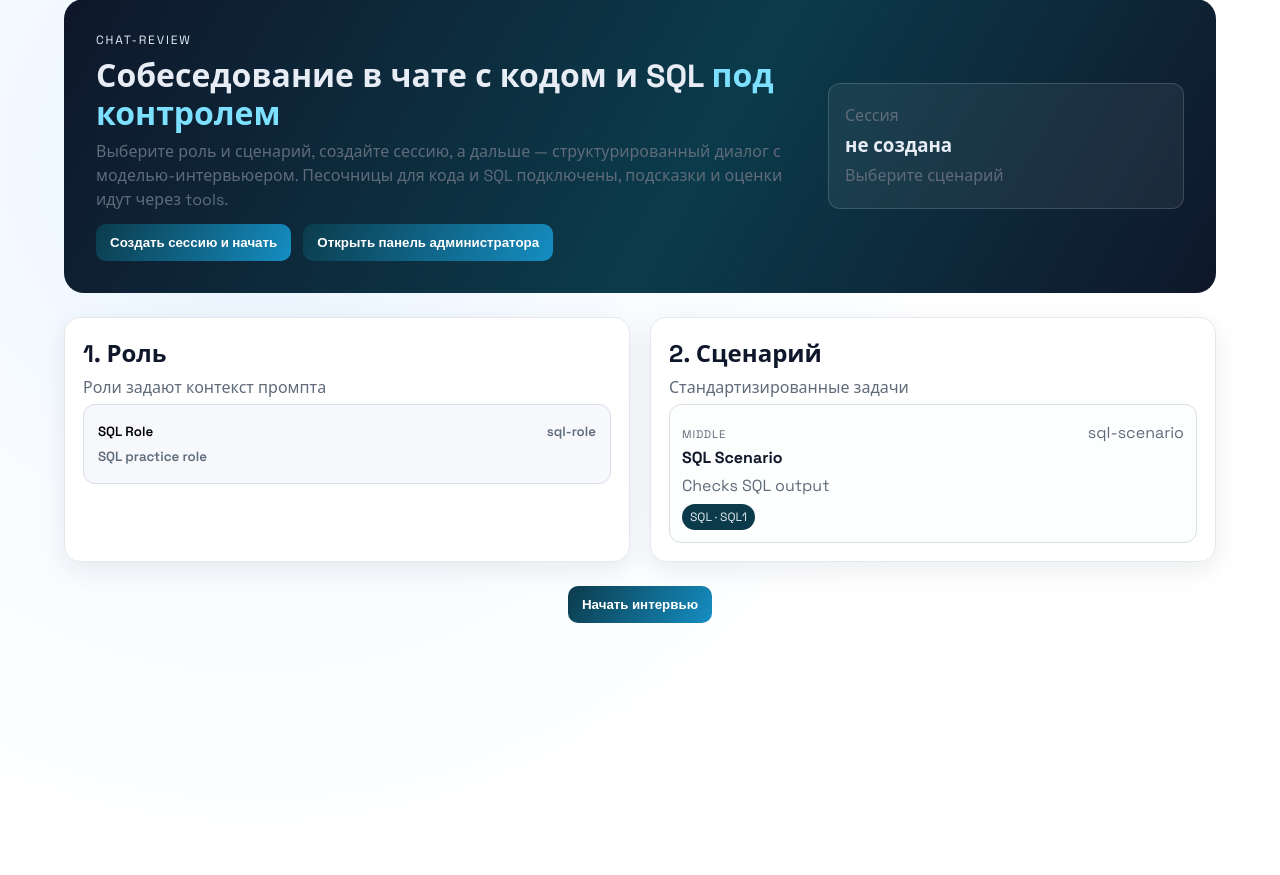
Test: Practice feedback UI › strips duplicated Points and Comment wrappers from sql model reply in the UI
The image size is (1280, 875).
Click the text "SQL Role". click: (126, 431)
box: [98,423,153,440]
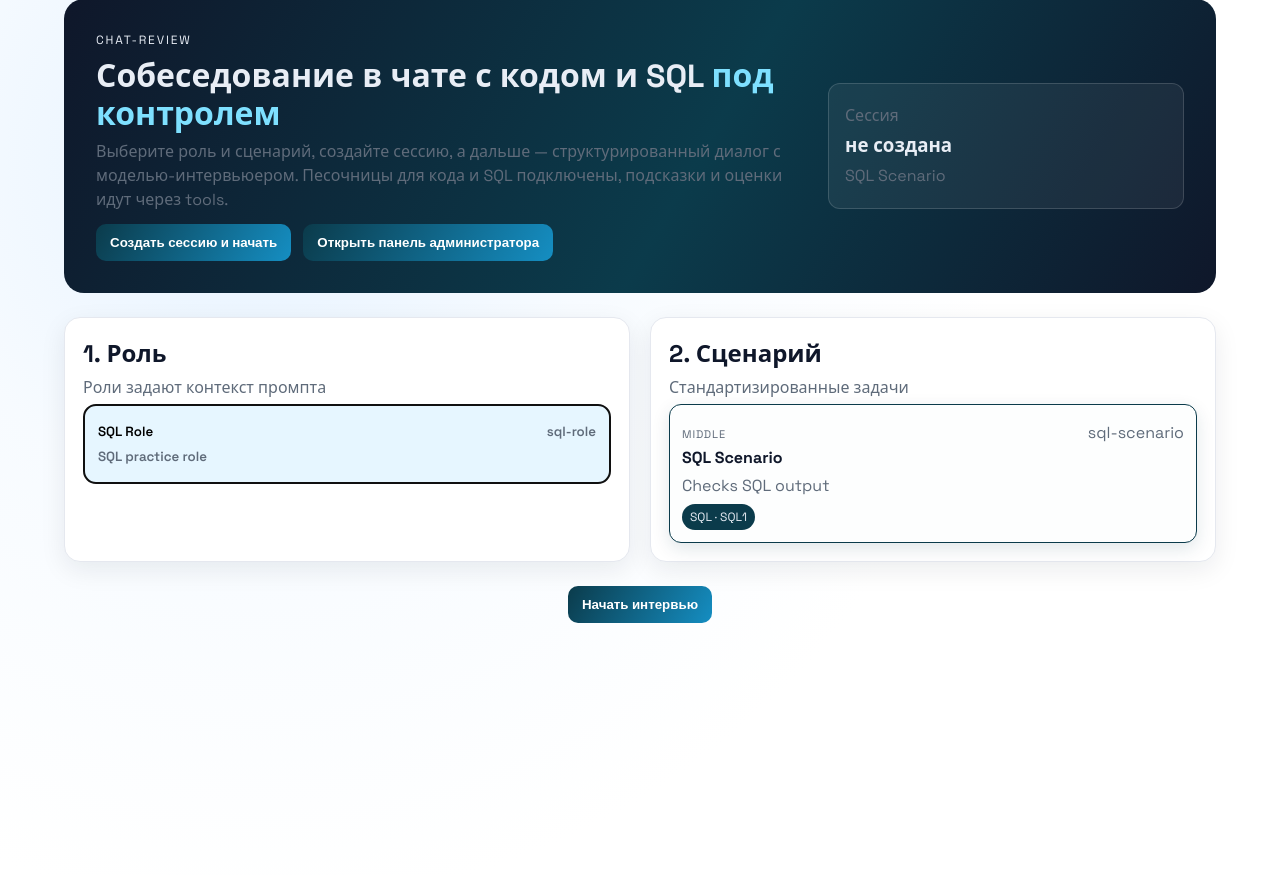
Click the text "Checks SQL output". click: (756, 486)
box: [682,475,830,496]
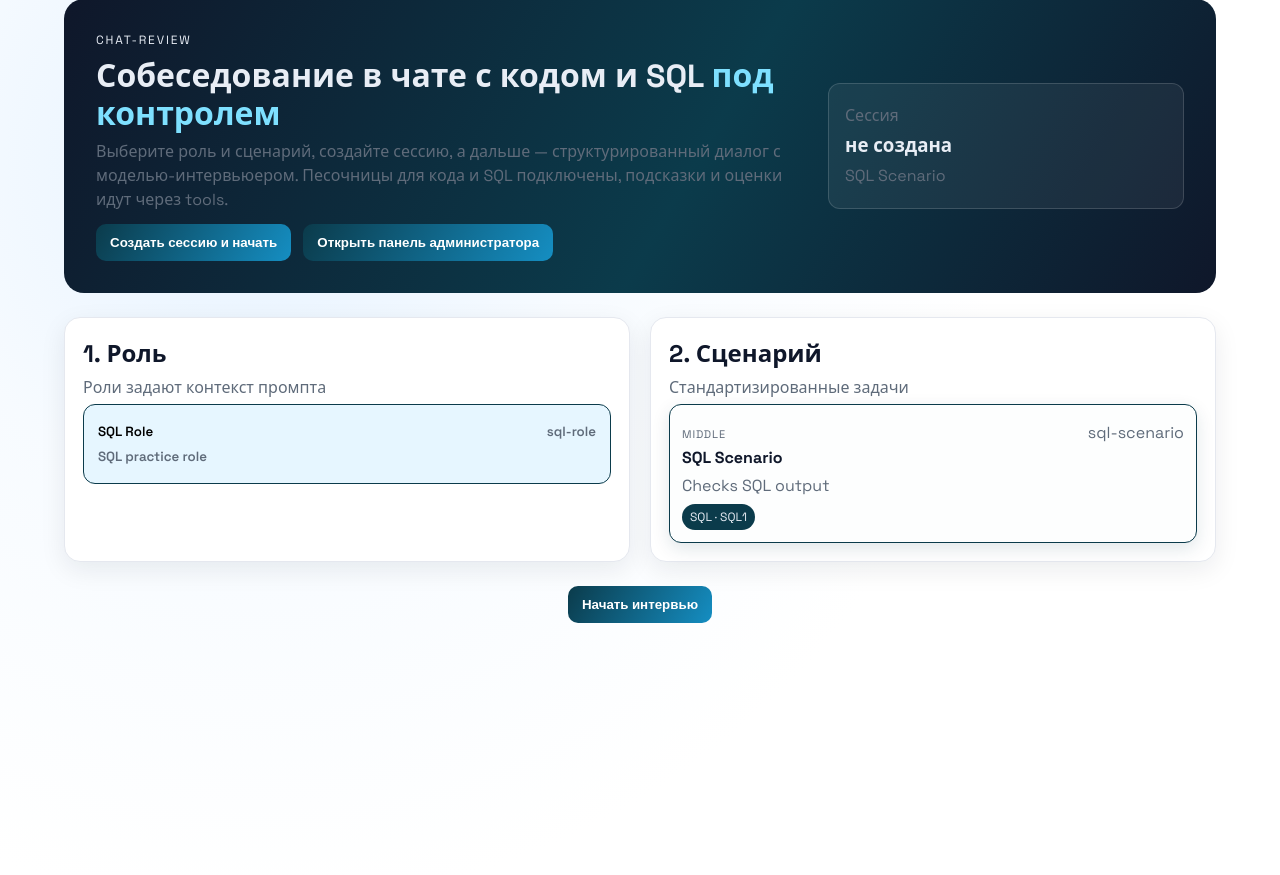
Click the button with test id "start-session-button". click: (194, 242)
box: [96,224,291,261]
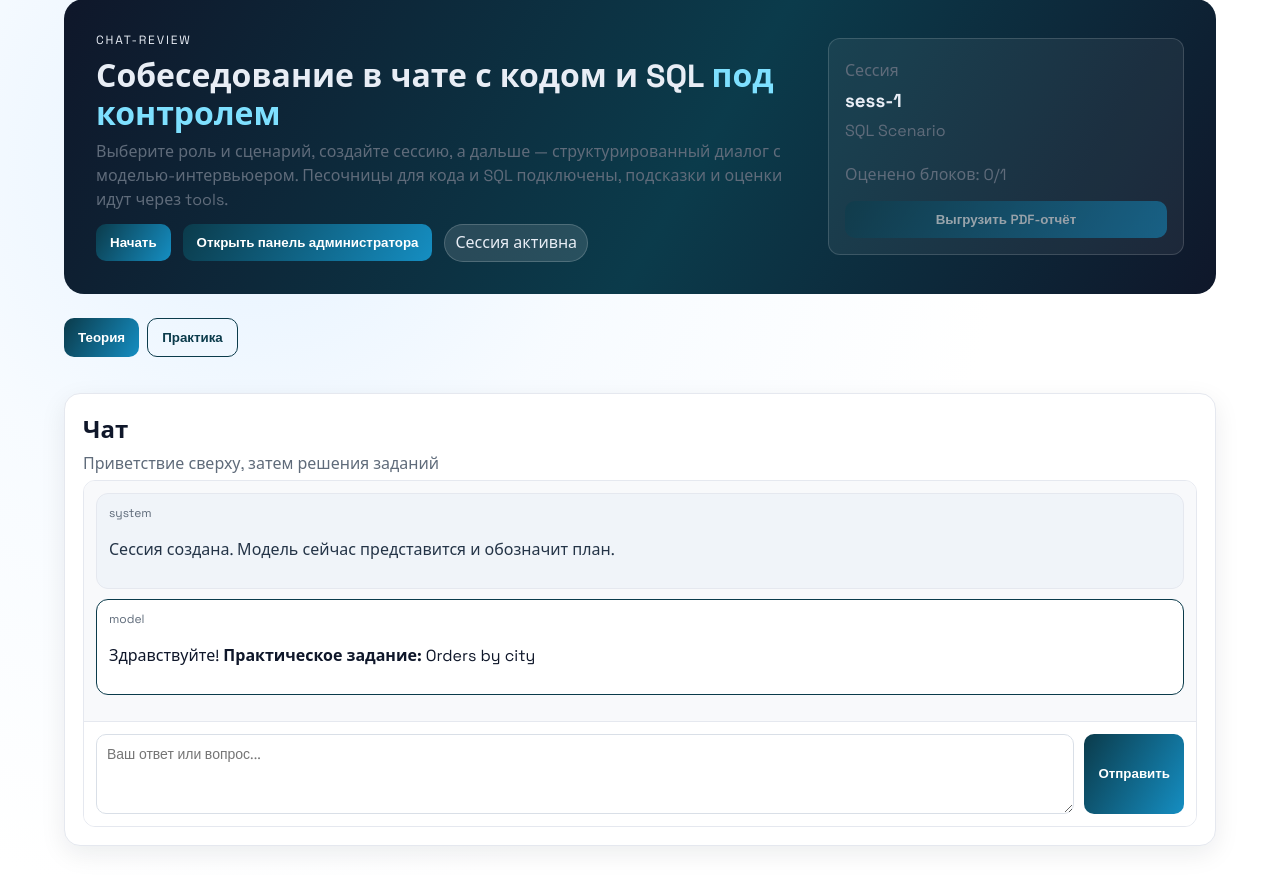
Click the button with test id "practice-mode-toggle". click: (192, 337)
box: [147,318,238,357]
(page scrolled)
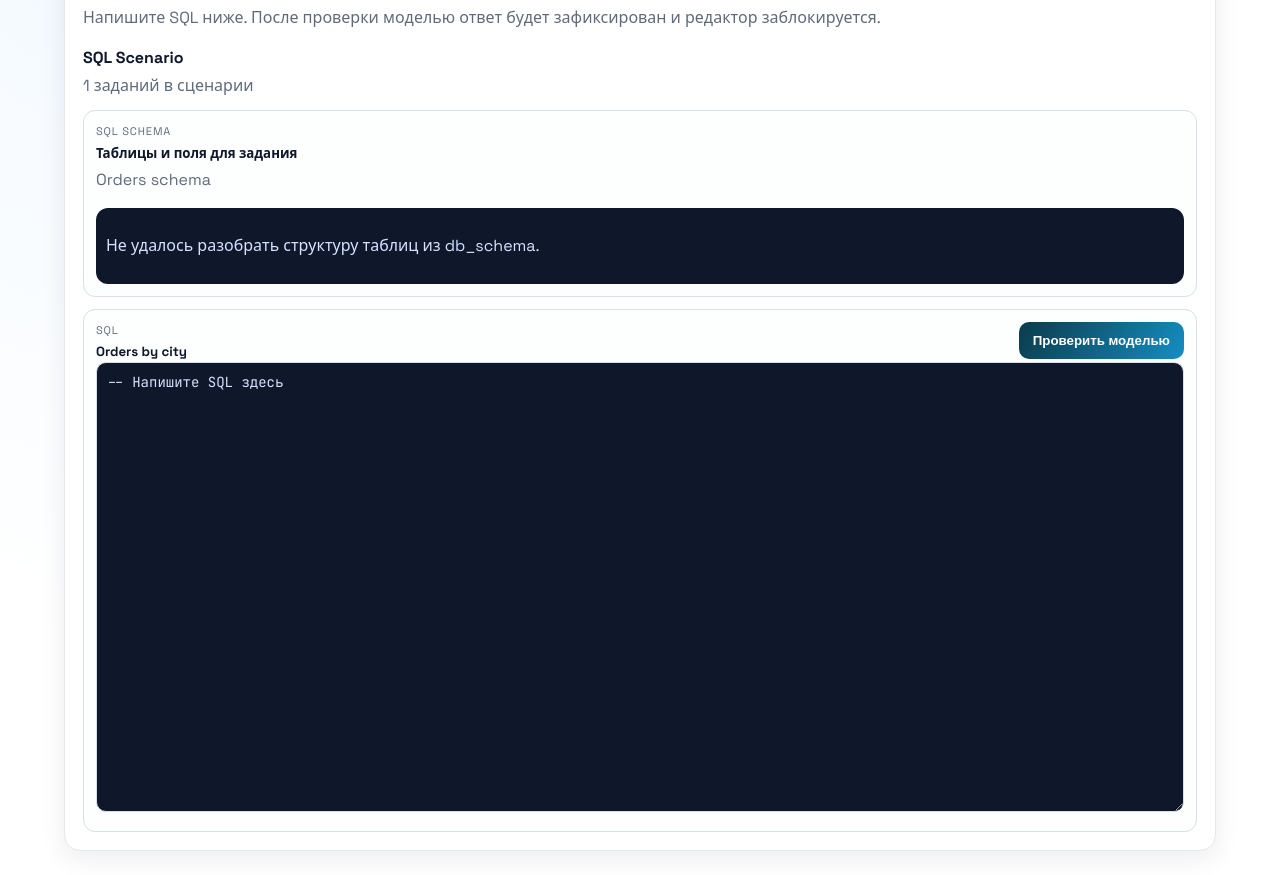
Replace the text in the text box with test id "sql-draft-input" with "select city, count(*) from orders group by city". click: (640, 587)
box: [96,362,1184,812]
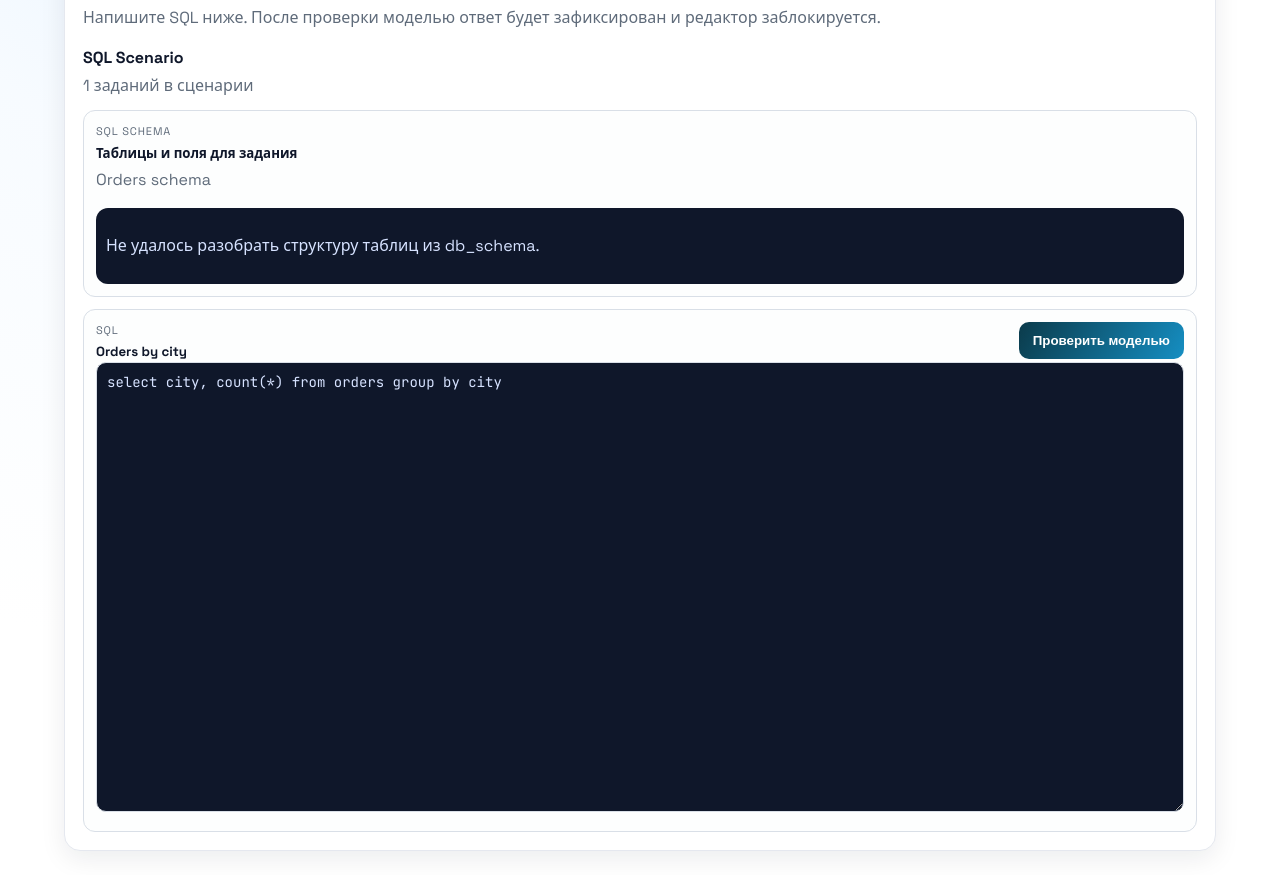
Click the button with test id "review-sql-button". click: (1101, 340)
box: [1019,322,1184,359]
(page scrolled)
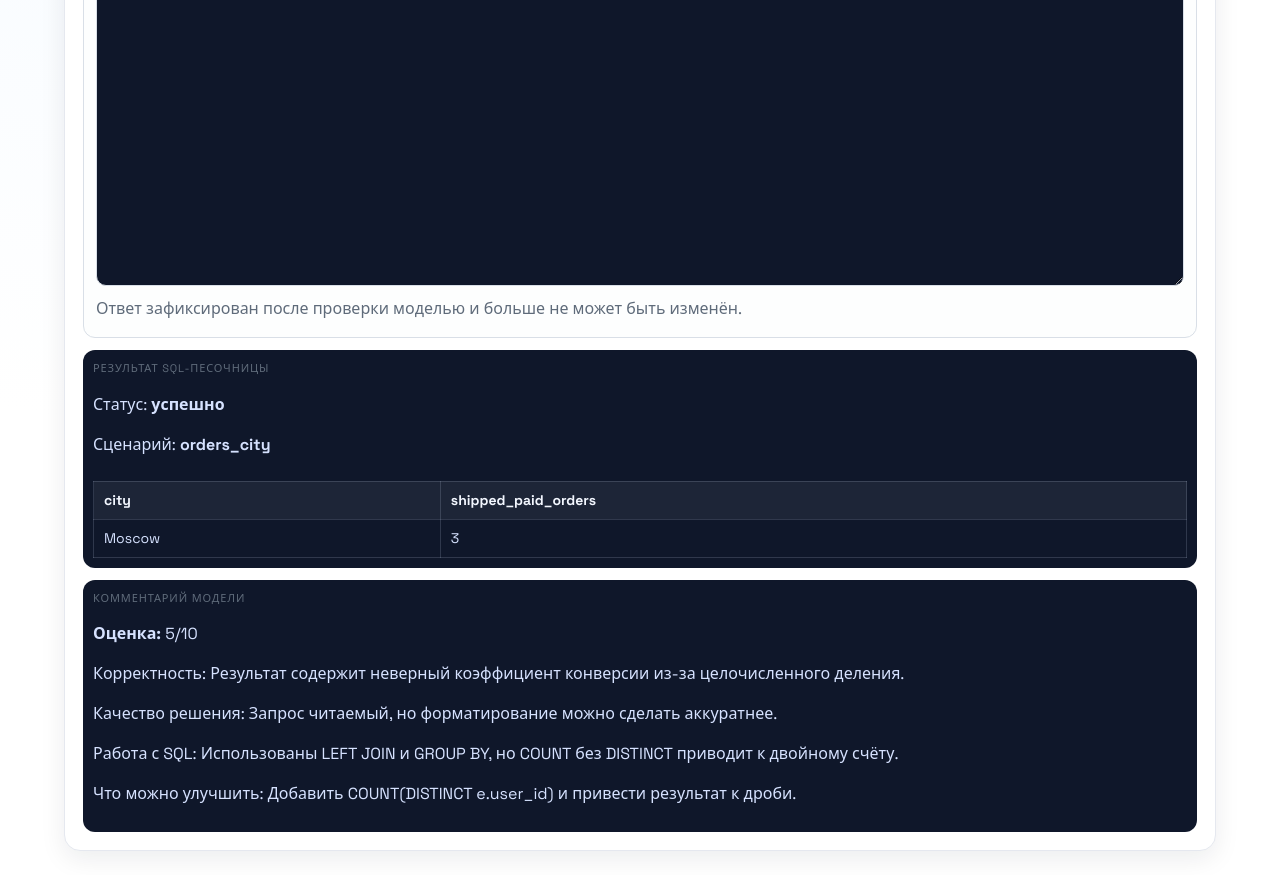
Expected: the text "Оценка: 5/10" is shown, [93,623,198,644]
Expected: the text "Оценка:" is shown once, [93,623,161,644]
Expected: the text "Корректность:" is shown, [93,663,904,684]
